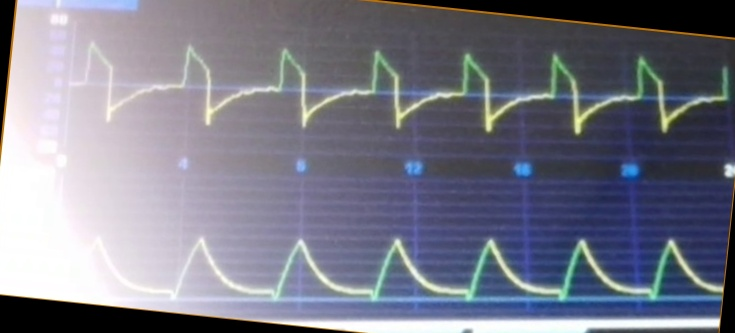Flow: (72, 40, 729, 146)
Leakage Volume: (59, 223, 720, 309)
